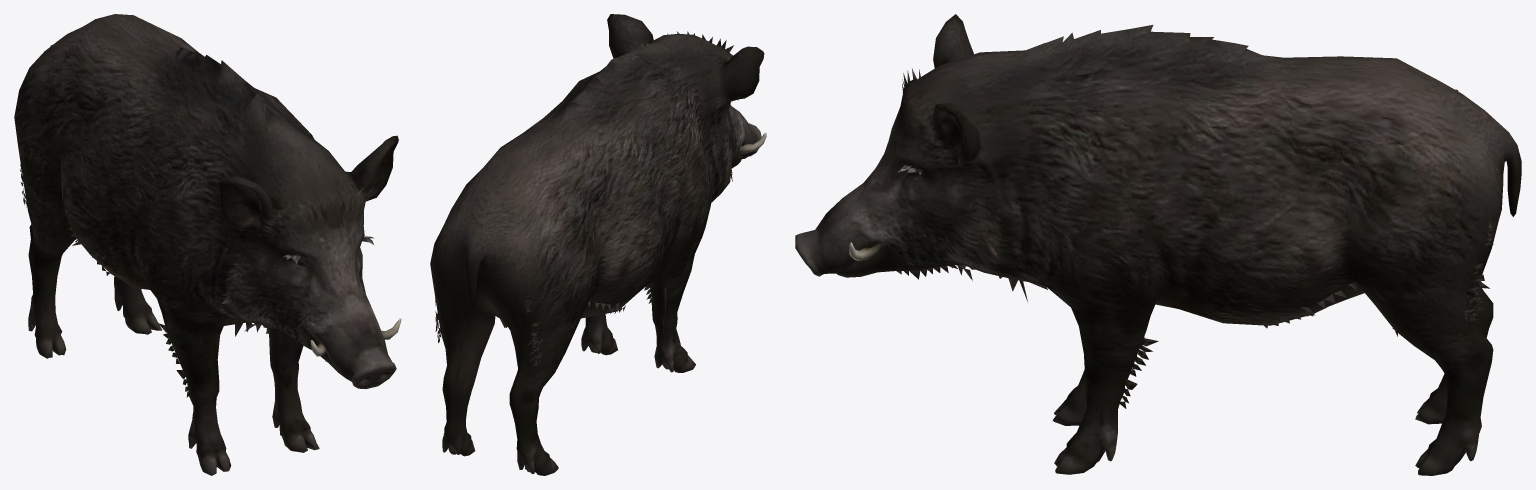
Rendered from matriarca_javali.glb.
3 renders of one model, left to right at view 1: azimuth 30°, elevation 25°; view 2: azimuth 150°, elevation 25°; view 3: azimuth 270°, elevation 25°, orthographic. The views are drawn at different scales.
Parts seen in each view (by area): view 1: Matriarca; view 2: Matriarca; view 3: Matriarca.
Part boxes in pixels (box(x1,y1,x2,y2)): Matriarca: box(14, 14, 401, 475); Matriarca: box(430, 14, 766, 475); Matriarca: box(795, 14, 1521, 475).
Bounding box in the file's own units: 0.334 × 0.6348 × 0.998.
Materials: 1 (1 with a texture image).
